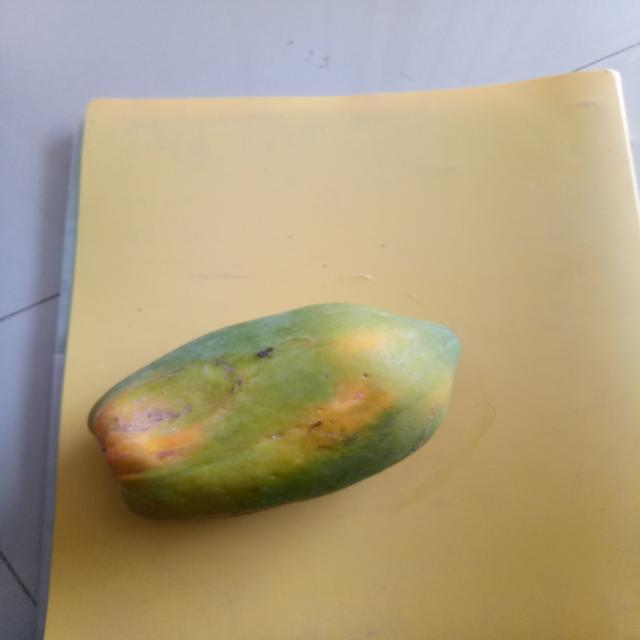Pepaya rippen: (83, 297, 476, 527)
